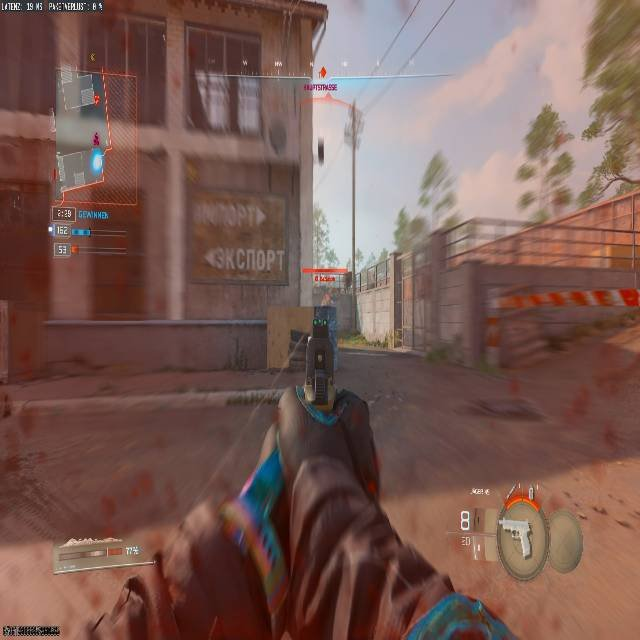player: (312, 286, 343, 354)
